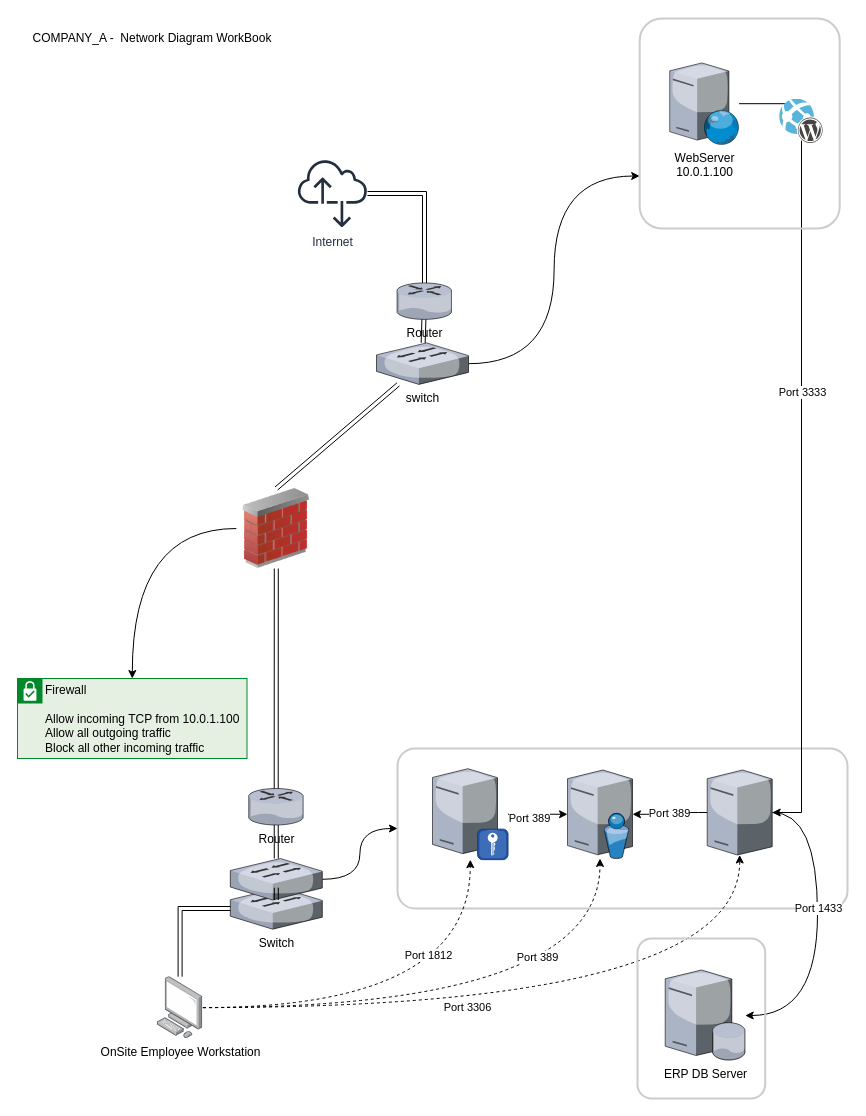
Image size: 866x1116. Some labels were removed from this diagram. Here are the shapes that lost their labels. From the top down, the centre of each, then its label:
the point at 801,121: WordPress
the point at 276,528: Internal FW
the point at 470,813: RADIUS Server 10.0.1.102
the point at 599,814: LDAP Server 10.1.2.104
the point at 739,812: ERP App Server 10.1.2.103
